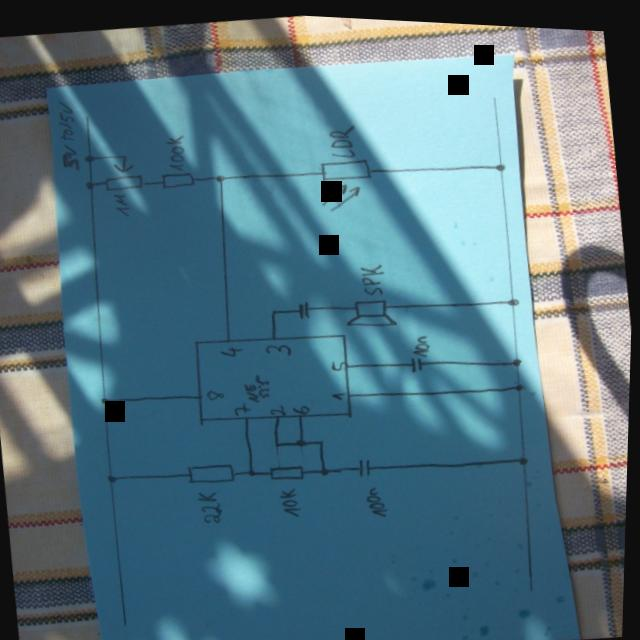capacitor: (356, 452, 375, 475), (296, 296, 313, 318), (409, 351, 425, 370)
junction: (517, 448, 532, 461), (506, 290, 520, 303), (83, 178, 96, 191), (82, 152, 96, 164), (106, 472, 120, 484), (511, 351, 524, 363), (493, 156, 506, 168), (295, 434, 309, 445), (319, 462, 332, 473), (514, 376, 527, 387), (213, 171, 226, 181), (99, 395, 112, 405), (247, 465, 258, 475), (317, 435, 328, 443), (268, 306, 279, 313), (273, 438, 283, 445)
resistor: (314, 152, 376, 212), (100, 149, 148, 193), (185, 457, 238, 487), (267, 458, 308, 482), (158, 168, 197, 189)
terminal: (488, 88, 498, 98), (80, 112, 91, 119), (529, 579, 537, 588), (124, 619, 132, 628)
text: (53, 97, 82, 172), (326, 119, 360, 157), (196, 486, 227, 524), (358, 257, 387, 295), (242, 369, 274, 403), (163, 131, 189, 172), (277, 483, 306, 517), (365, 481, 392, 516), (111, 191, 133, 218), (411, 330, 432, 355), (264, 339, 293, 355), (220, 342, 245, 358), (205, 386, 226, 400), (269, 400, 288, 415), (233, 400, 252, 415), (330, 355, 350, 369), (291, 400, 312, 413), (331, 386, 348, 399)
